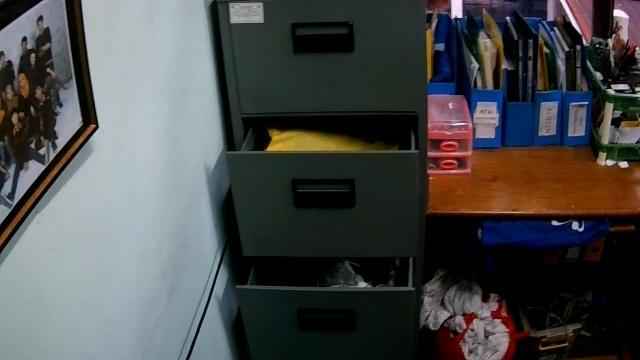Filing Cabinet: (213, 0, 429, 359)
